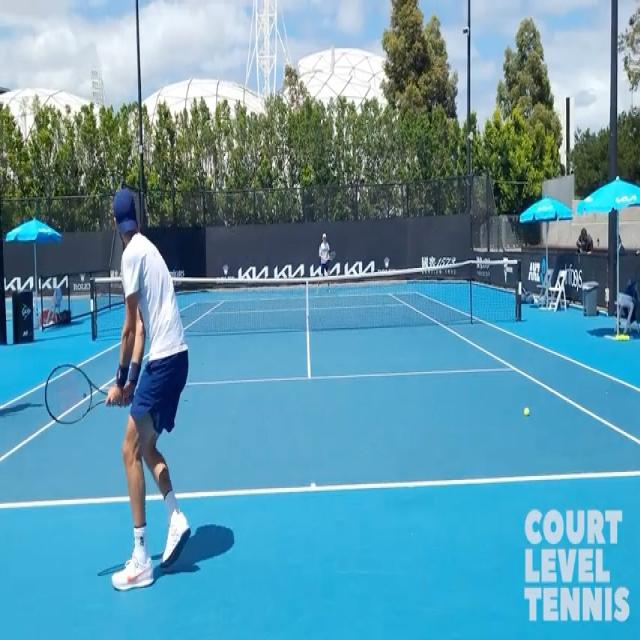backhand-ready: (46, 187, 193, 598)
